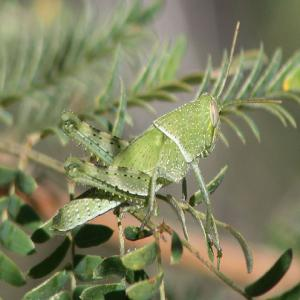locust: (29, 76, 241, 201)
